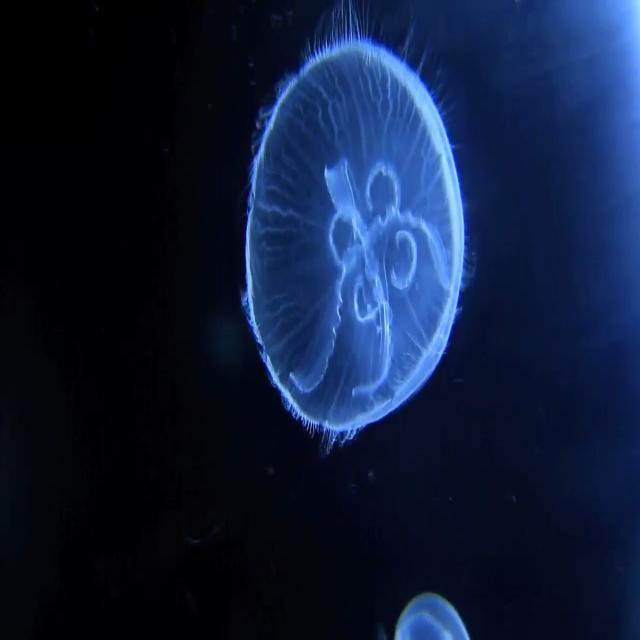Moon-jellyfish: (240, 36, 468, 444)
